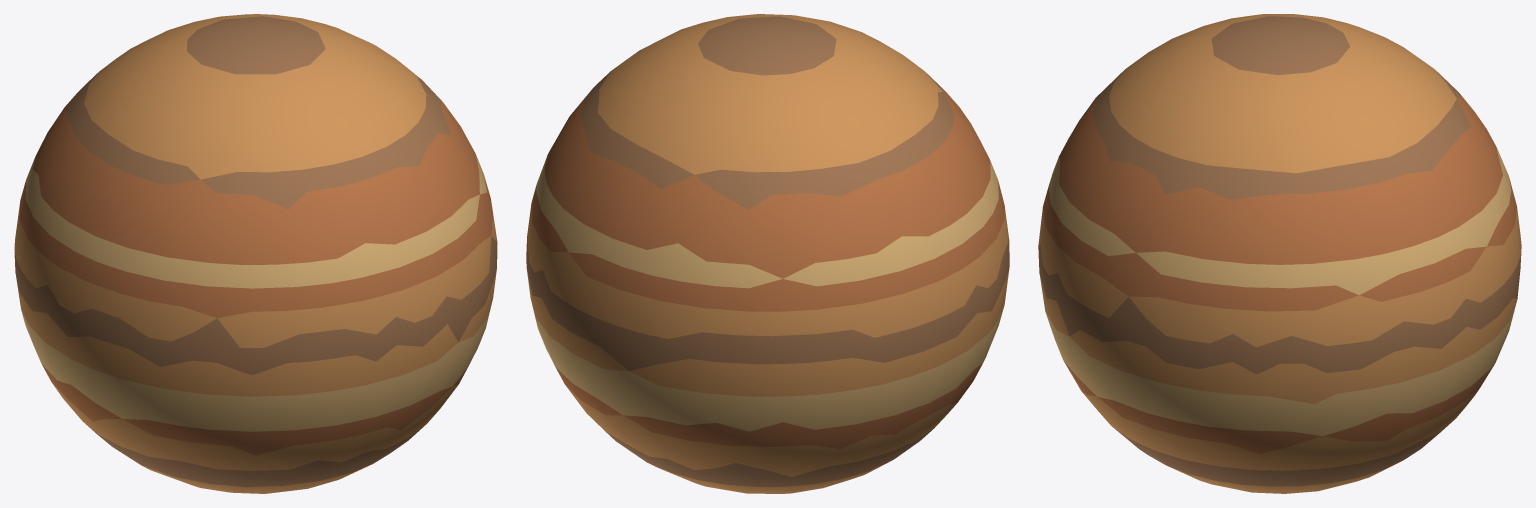
File: browny.glb
3 renders of one model, left to right at view 1: azimuth 30°, elevation 25°; view 2: azimuth 150°, elevation 25°; view 3: azimuth 270°, elevation 25°, orthographic.
Visible parts, largest first — view 1: Browny; view 2: Browny; view 3: Browny.
Part boxes in pixels (x1,y1,x2,y2): Browny: (14,14,497,493); Browny: (526,14,1009,493); Browny: (1038,14,1521,493).
Size of the model in its own units: 3.76 by 3.75 by 3.76.
Materials: 1 (1 with a texture image).
